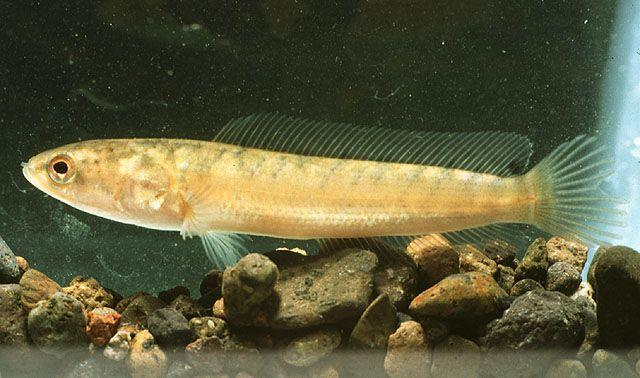Mudfish: (20, 113, 629, 282)
